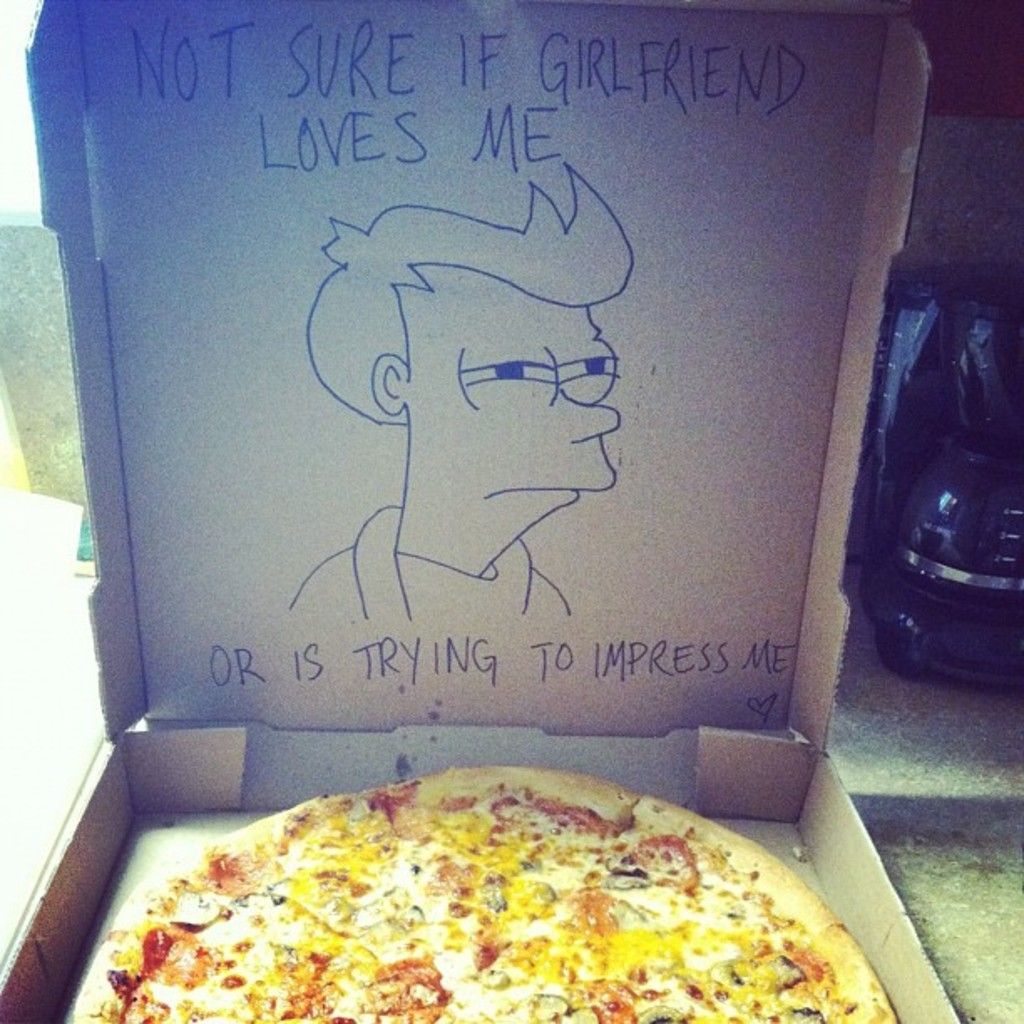Pizza: (70, 762, 900, 1022)
